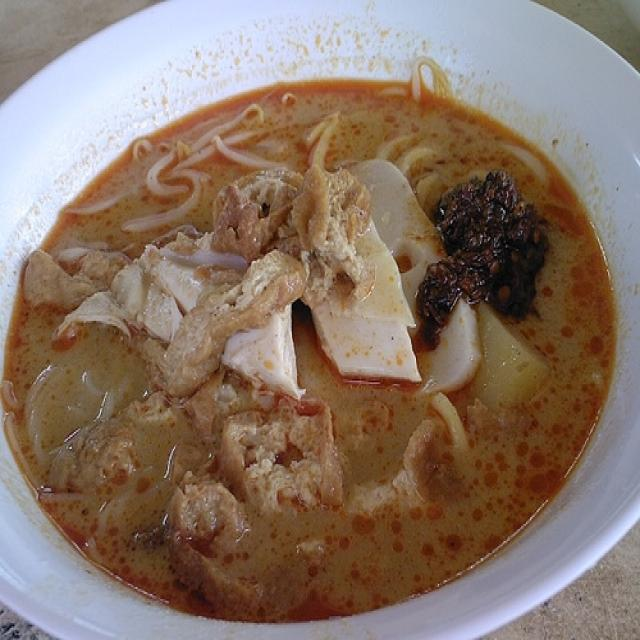面条主食: (8, 7, 635, 623)
